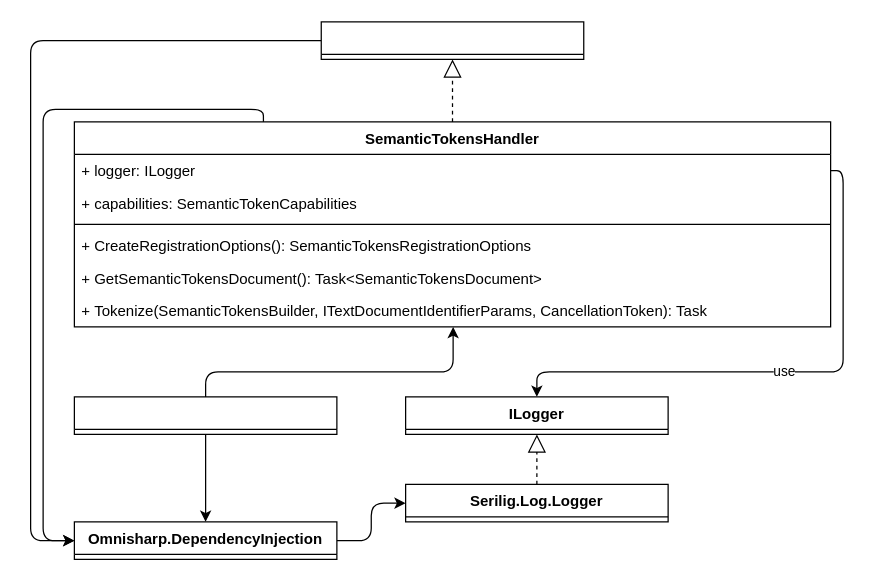
Image size: 875x581. Some labels were removed from this diagram. Here are the shapes that lost their labels. From the top down, the centre of each, then its label:
At [452,40]: "SemanticTokensHandlerBase".
At [205,415]: "Server.Main".
